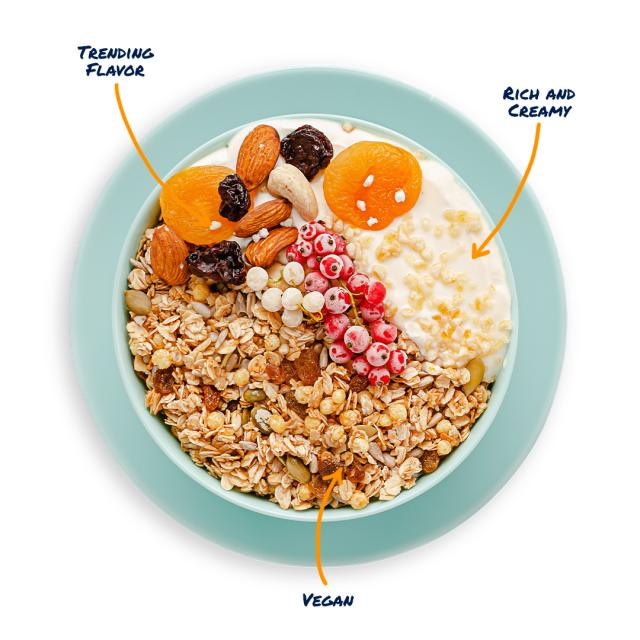avena: (122, 309, 494, 517)
